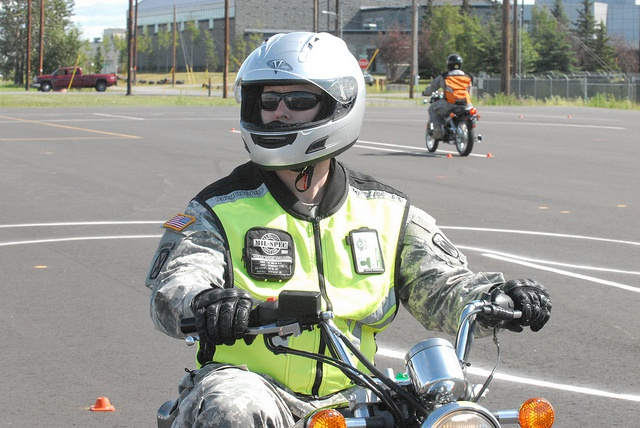non-vehicle: (157, 289, 557, 423), (424, 103, 483, 155)
